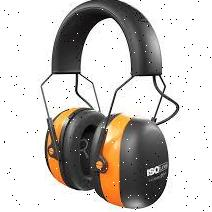Ear_protector: (96, 101, 167, 212), (37, 102, 94, 188)
